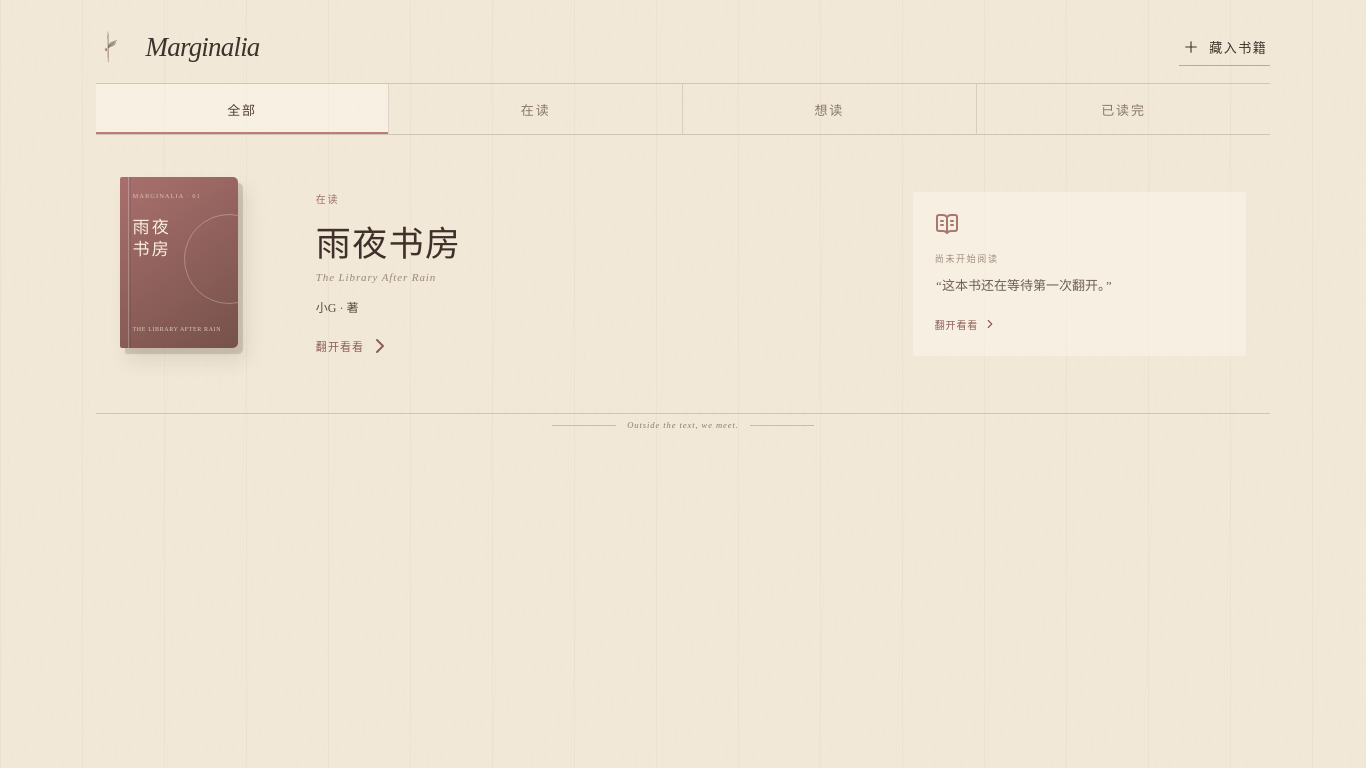
Scenario: Marginalia visual prototype › manages the companion records per book from the room menu
Expected: the button with aria-label "打开《雨夜书房》" is shown, [316, 184, 849, 364]
Click the button with aria-label "查看《雨夜书房》的书籍档案" at [186, 274], box [120, 177, 252, 371]
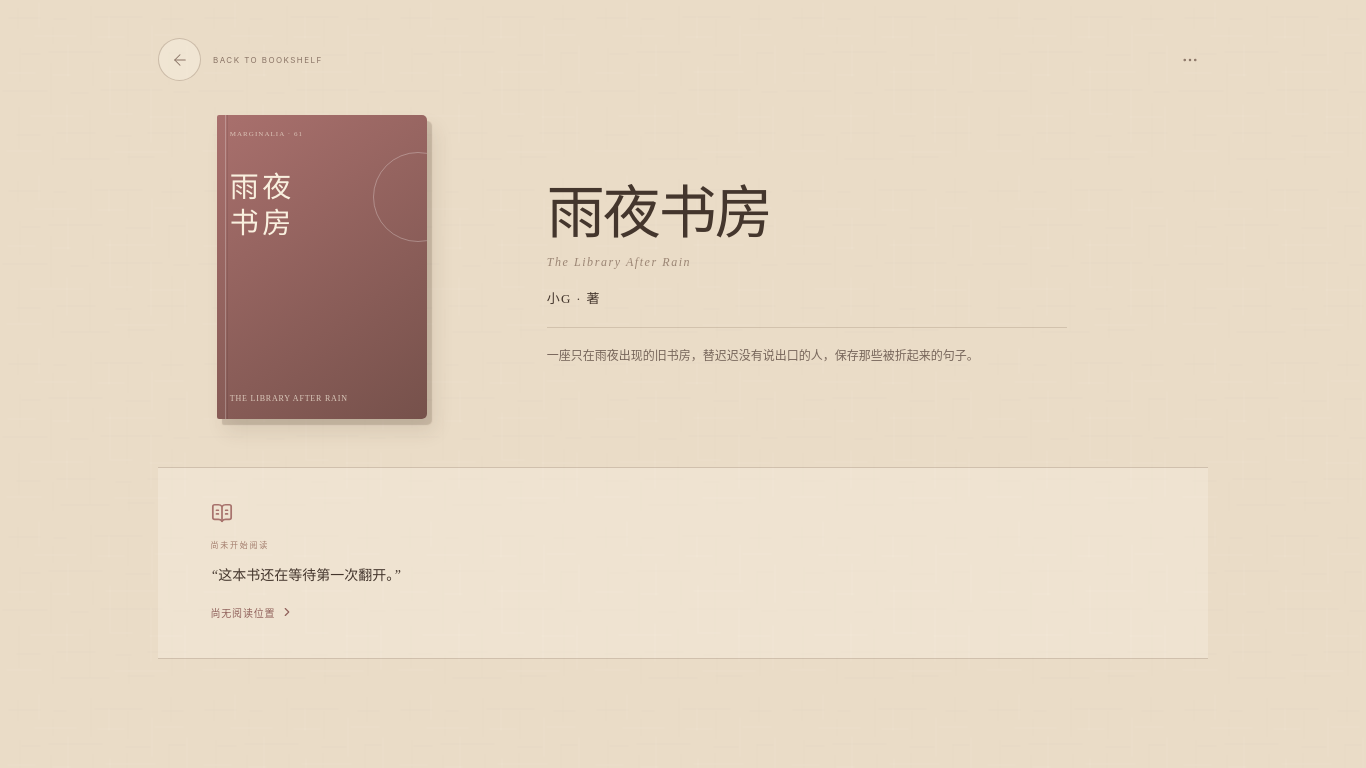
Click the button named "管理这本书" at [1190, 60], box [1171, 41, 1208, 78]
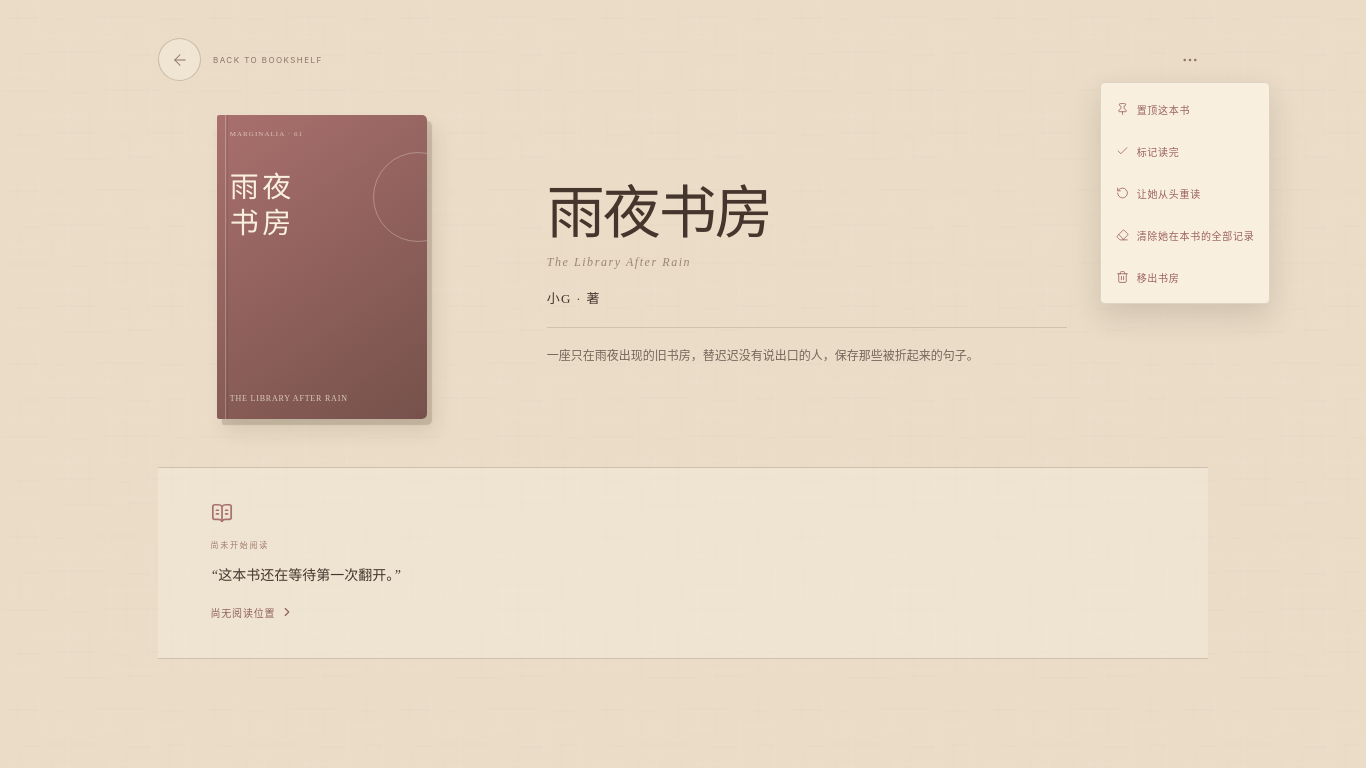
Click the menu item "让她从头重读" at [1185, 193], box [1106, 172, 1264, 214]
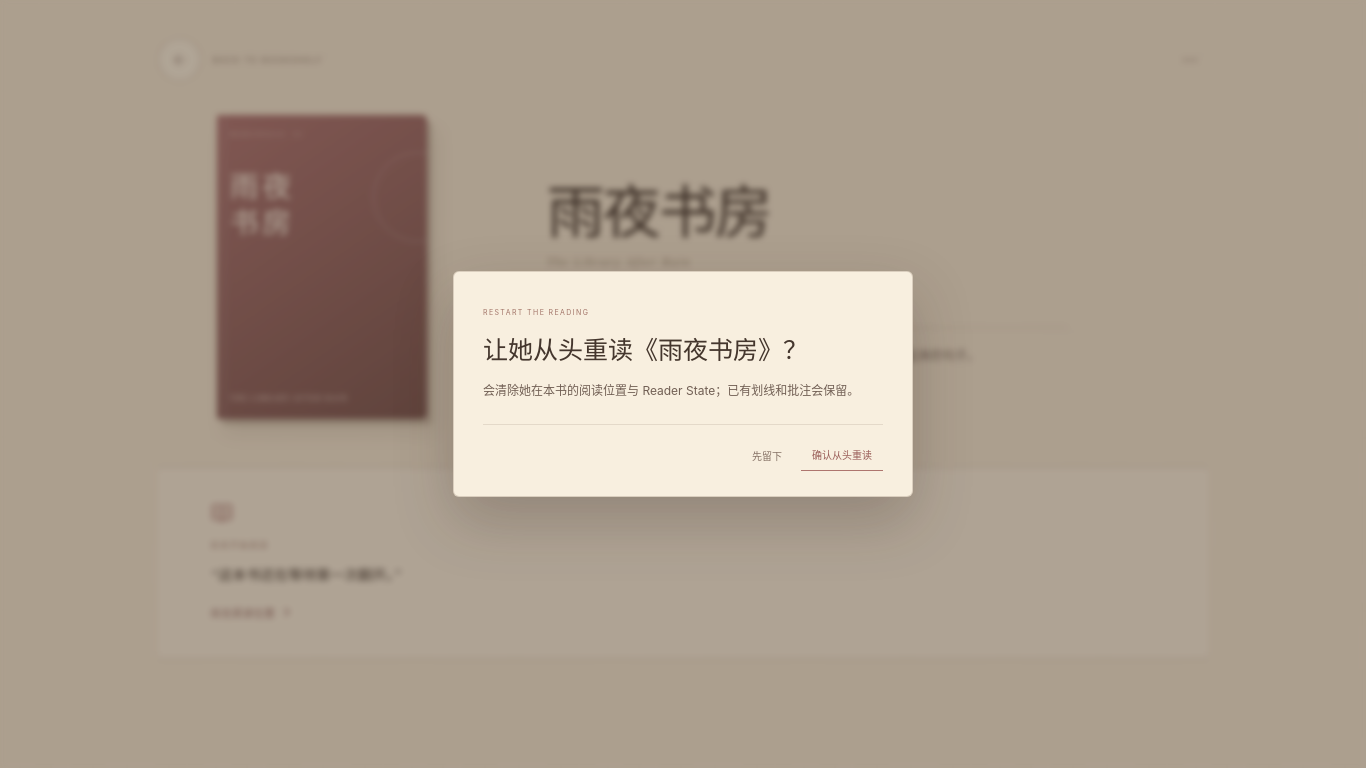
Expected: the dialog "让她从头重读《雨夜书房》？" shows "已有划线和批注会保留", [483, 383, 859, 398]
Click the button "先留下" at [767, 455], box [741, 439, 793, 471]
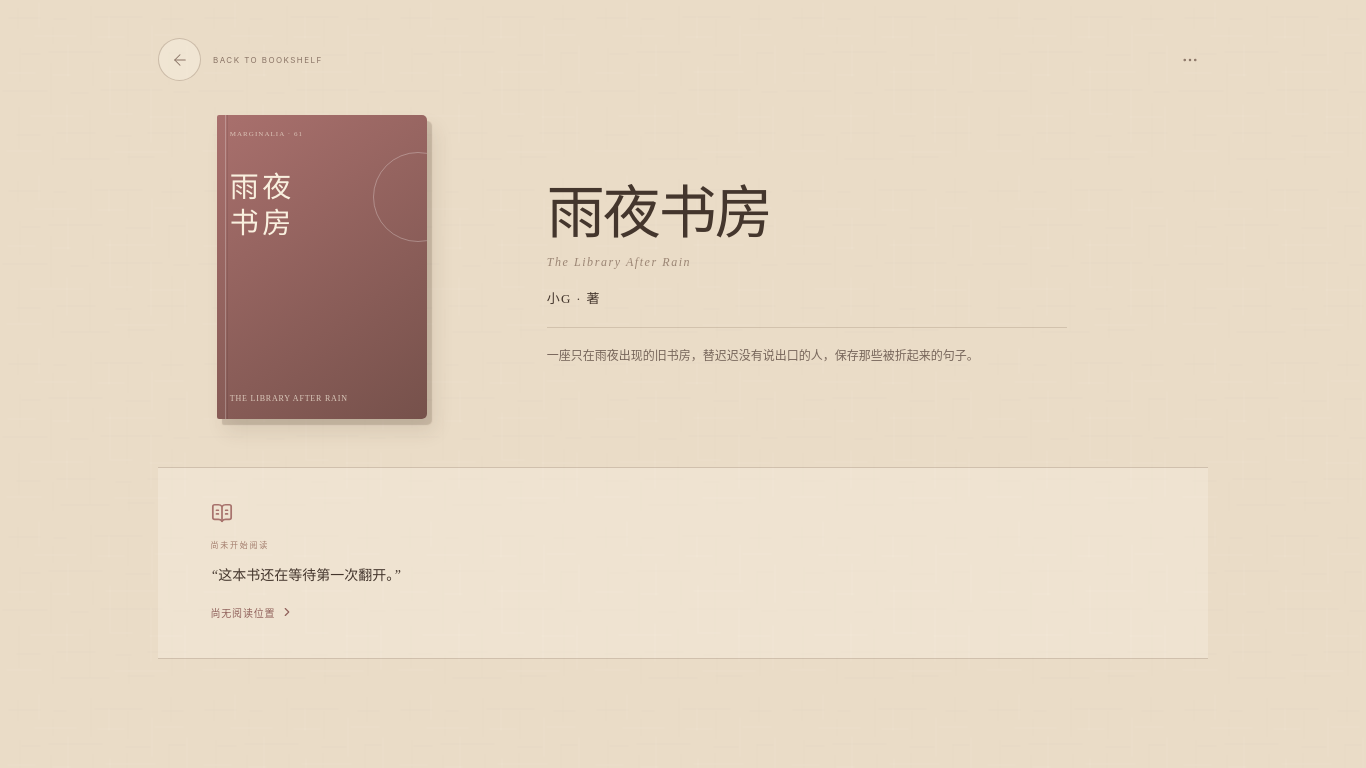
Click the button named "管理这本书" at [1190, 60], box [1171, 41, 1208, 78]
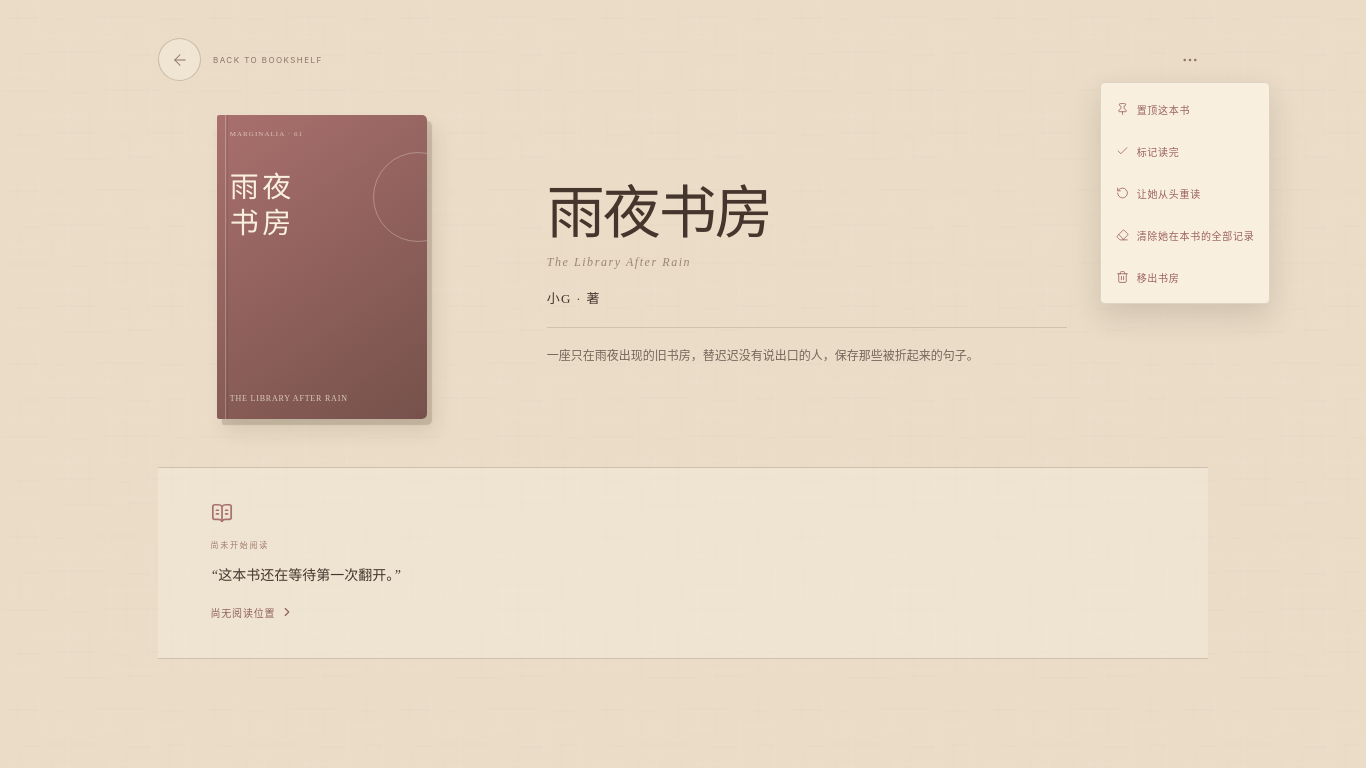
Click the menu item "清除她在本书的全部记录" at [1185, 235], box [1106, 214, 1264, 256]
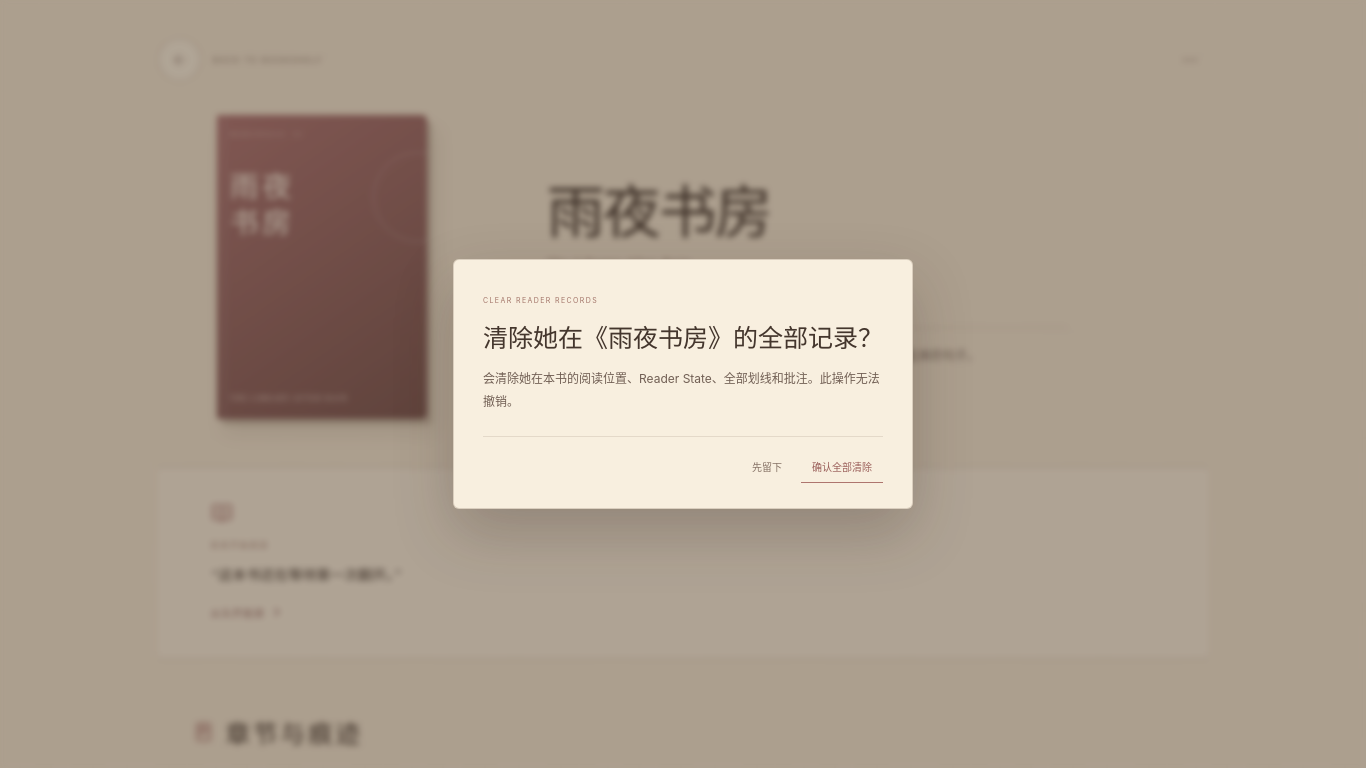
Expected: the dialog "清除她在《雨夜书房》的全部记录？" shows "此操作无法撤销", [483, 371, 880, 409]
